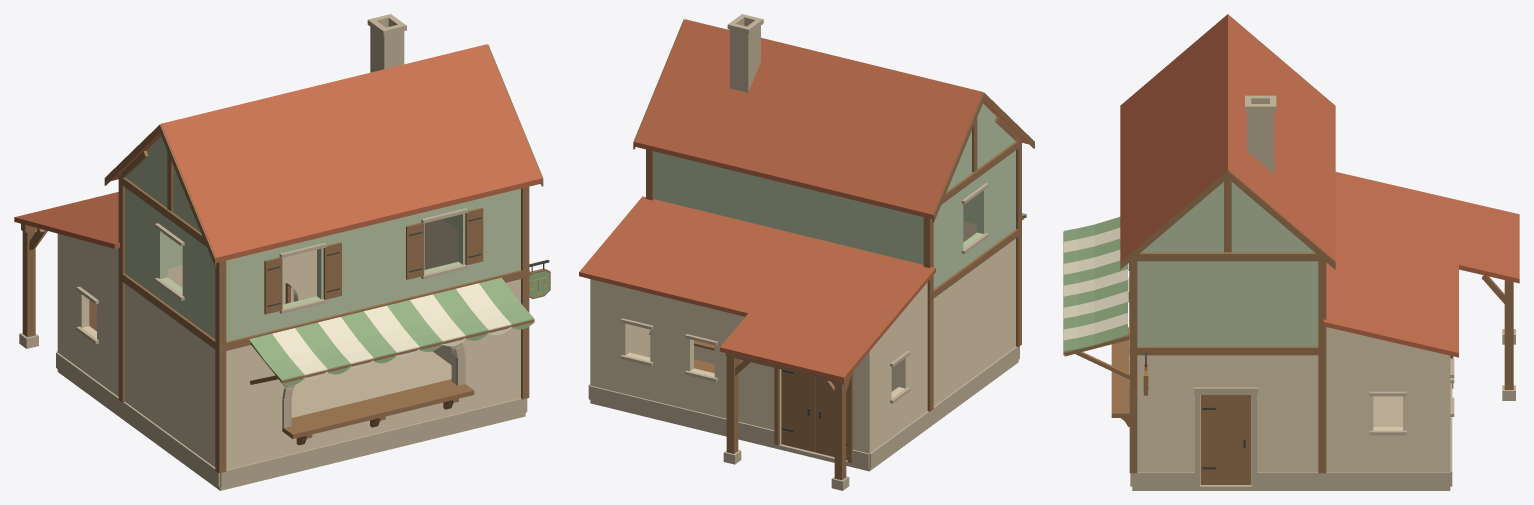
Rendered from Casa-del-Mercader.glb.
3 views of the same model, side by side, from view 1: azimuth 30°, elevation 25°; view 2: azimuth 150°, elevation 25°; view 3: azimuth 270°, elevation 25° (orthographic). The views are drawn at different scales.
Parts seen in each view (by area): view 1: Faldón · plaza, Muro · plaza, Muro · costado izquierdo, Toldo · lona festoneada, Muro · bodega izquierda, Piso · casa, Zócalo, Mostrador · repisa, Zócalo.003, Poste de esquina, Muro · entrada derecha, Muro · casa a bodega (+15 smaller); view 2: Faldón · bodega, Cubierta · almacén, Muro · costado izquierdo, Muro · bodega · carga, Muro · casa a bodega, Muro · bodega izquierda, Prolongación · pórtico de carga, Zócalo.002, Portón · derecha, Zócalo.003, Chimenea, Portón · izquierda (+11 smaller); view 3: Muro · entrada derecha, Cubierta · almacén, Faldón · plaza, Muro · bodega derecha, Faldón · bodega, Toldo · lona festoneada, Puerta · vivienda, Prolongación · pórtico de carga, Zócalo.005, Carrera · hastial.002, Poste de esquina.003, Poste de esquina.002 (+13 smaller).
Part boxes in pixels (bbox=[...]): Faldón · plaza: bbox=[161, 44, 541, 262]; Muro · plaza: bbox=[228, 189, 517, 469]; Muro · costado izquierdo: bbox=[125, 136, 227, 469]; Toldo · lona festoneada: bbox=[249, 277, 534, 385]; Muro · bodega izquierda: bbox=[57, 233, 118, 396]; Piso · casa: bbox=[122, 350, 525, 490]; Zócalo: bbox=[220, 398, 526, 487]; Mostrador · repisa: bbox=[282, 379, 474, 438]; Zócalo.003: bbox=[56, 352, 220, 486]; Poste de esquina: bbox=[215, 260, 226, 473]; Muro · entrada derecha: bbox=[424, 188, 520, 398]; Muro · casa a bodega: bbox=[167, 237, 316, 301]; Faldón · bodega: bbox=[634, 19, 982, 219]; Cubierta · almacén: bbox=[579, 196, 935, 347]; Muro · costado izquierdo: bbox=[922, 103, 1015, 406]; Muro · bodega · carga: bbox=[597, 280, 862, 451]; Muro · casa a bodega: bbox=[656, 152, 921, 391]; Muro · bodega izquierda: bbox=[862, 282, 927, 453]; Prolongación · pórtico de carga: bbox=[720, 313, 872, 381]; Zócalo.002: bbox=[589, 385, 779, 445]; Portón · derecha: bbox=[781, 369, 815, 452]; Zócalo.003: bbox=[869, 346, 1019, 467]; Chimenea: bbox=[730, 22, 760, 92]; Portón · izquierda: bbox=[815, 378, 847, 460]; Muro · entrada derecha: bbox=[1137, 182, 1318, 471]; Cubierta · almacén: bbox=[1323, 172, 1458, 357]; Faldón · plaza: bbox=[1120, 14, 1227, 261]; Muro · bodega derecha: bbox=[1326, 327, 1450, 471]; Faldón · bodega: bbox=[1228, 14, 1335, 261]; Toldo · lona festoneada: bbox=[1063, 217, 1127, 355]; Puerta · vivienda: bbox=[1200, 395, 1251, 484]; Prolongación · pórtico de carga: bbox=[1459, 200, 1519, 283]; Zócalo.005: bbox=[1257, 472, 1450, 487]; Carrera · hastial.002: bbox=[1132, 346, 1323, 355]; Poste de esquina.003: bbox=[1318, 260, 1326, 473]; Poste de esquina.002: bbox=[1129, 261, 1137, 473].
Bounding box in the file's own units: 8.2 × 8.19 × 9.54.
